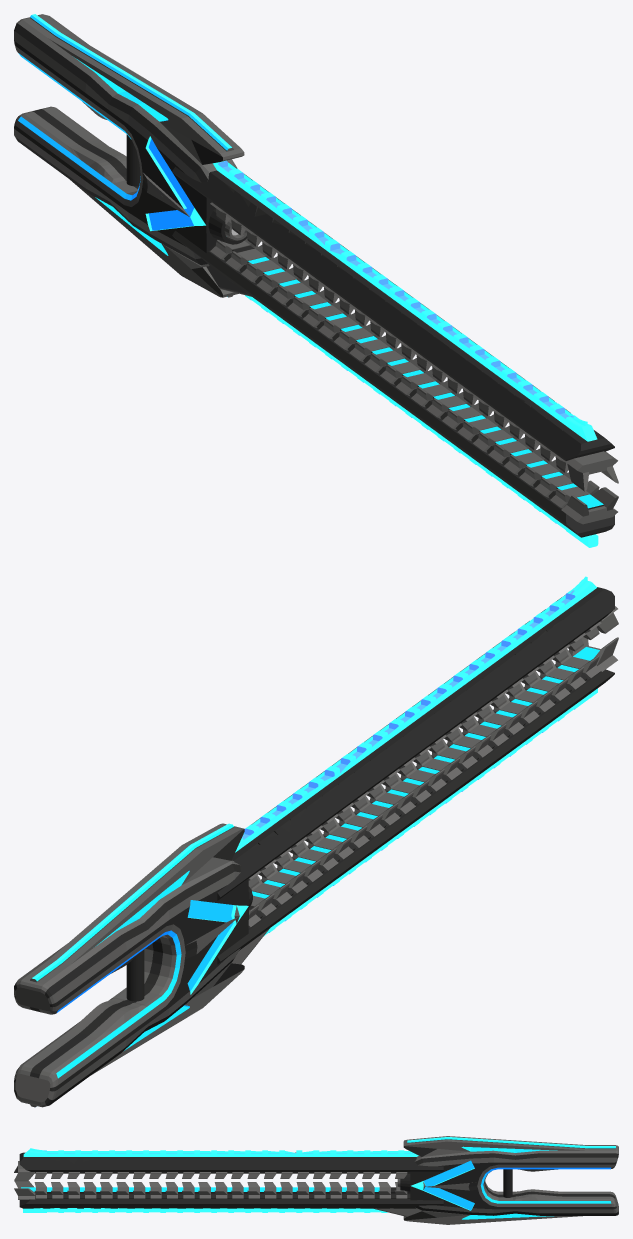
File: RAil_gun_2.fbx
3 views of the same model, one above another, from view 1: azimuth 30°, elevation 25°; view 2: azimuth 150°, elevation 25°; view 3: azimuth 270°, elevation 25° (orthographic). The views are drawn at different scales.
Visible parts, largest first — view 1: Cube.002, Cylinder, Cube.004, Cube, Cube.001, Cube.006; view 2: Cube.002, Cylinder, Cube.004, Cube, Cube.001, Cube.006, Cube.003; view 3: Cube.002, Cylinder, Cube.004, Cube, Cube.001, Cube.006, Cube.003, Cube.005, Cylinder.002.
Boxes of the visible parts, x1=… form: Cube.002: x1=14, y1=14, x2=244, y2=297; Cylinder: x1=172, y1=166, x2=614, y2=537; Cube.004: x1=210, y1=202, x2=599, y2=508; Cube: x1=213, y1=160, x2=598, y2=547; Cube.001: x1=211, y1=244, x2=603, y2=509; Cube.006: x1=561, y1=451, x2=618, y2=524; Cube.002: x1=14, y1=823, x2=248, y2=1107; Cylinder: x1=217, y1=587, x2=614, y2=964; Cube.004: x1=248, y1=622, x2=601, y2=927; Cube: x1=235, y1=576, x2=597, y2=935; Cube.001: x1=249, y1=647, x2=599, y2=918; Cube.006: x1=568, y1=606, x2=618, y2=672; Cube.003: x1=126, y1=949, x2=144, y2=1001; Cube.002: x1=403, y1=1136, x2=618, y2=1224; Cylinder: x1=19, y1=1152, x2=443, y2=1208; Cube.004: x1=34, y1=1172, x2=407, y2=1198; Cube: x1=23, y1=1148, x2=418, y2=1212; Cube.001: x1=21, y1=1172, x2=410, y2=1198; Cube.006: x1=14, y1=1161, x2=35, y2=1199; Cube.003: x1=503, y1=1169, x2=512, y2=1197; Cube.005: x1=373, y1=1208, x2=420, y2=1216; Cylinder.002: x1=400, y1=1173, x2=410, y2=1191.
Size of the model in its own units: 5.3 by 16.66 by 106.
